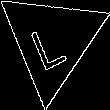L_NW: (29, 12, 74, 70)
